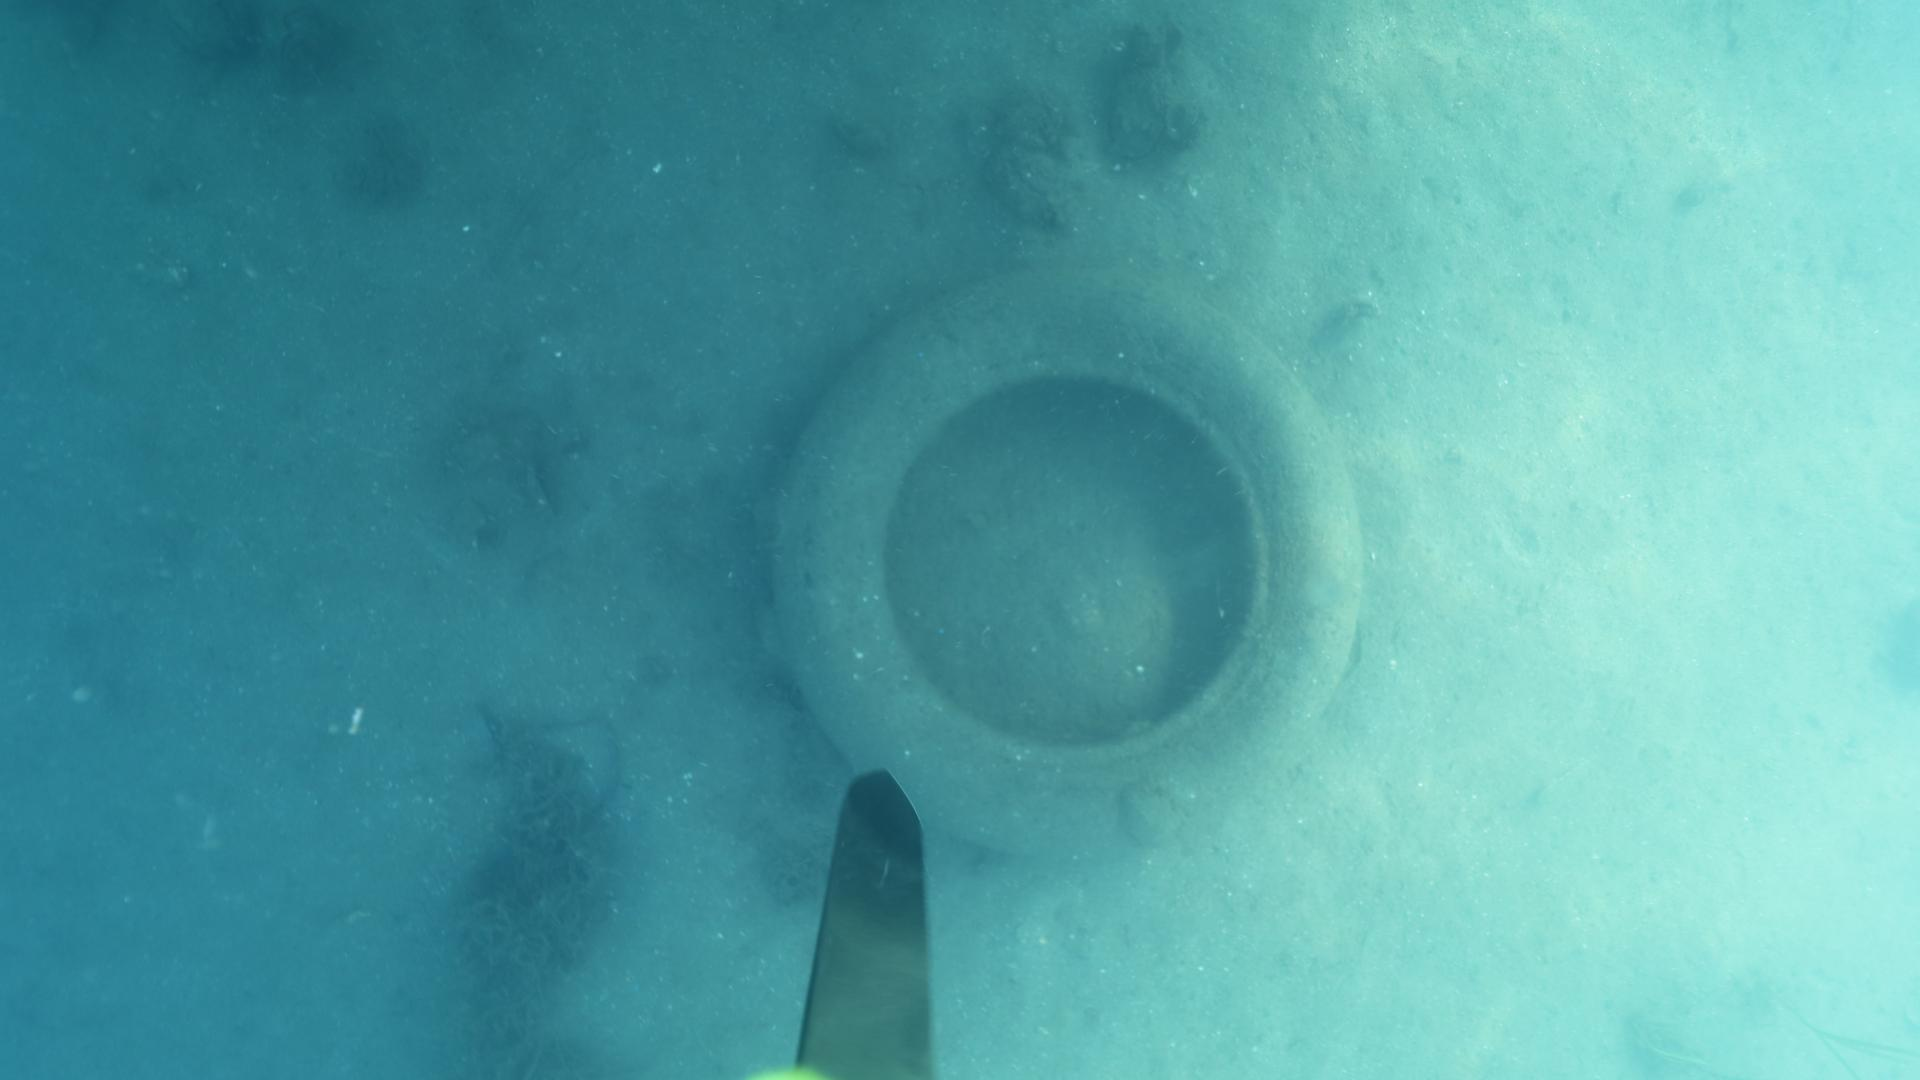tire: (773, 265, 1360, 860)
